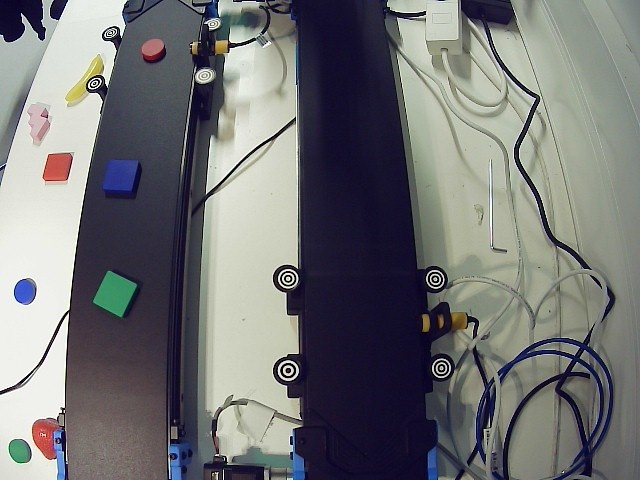Blue_Square: (103, 157, 144, 192)
Green_Square: (90, 270, 143, 322)
Red_Circle: (140, 38, 169, 63)
